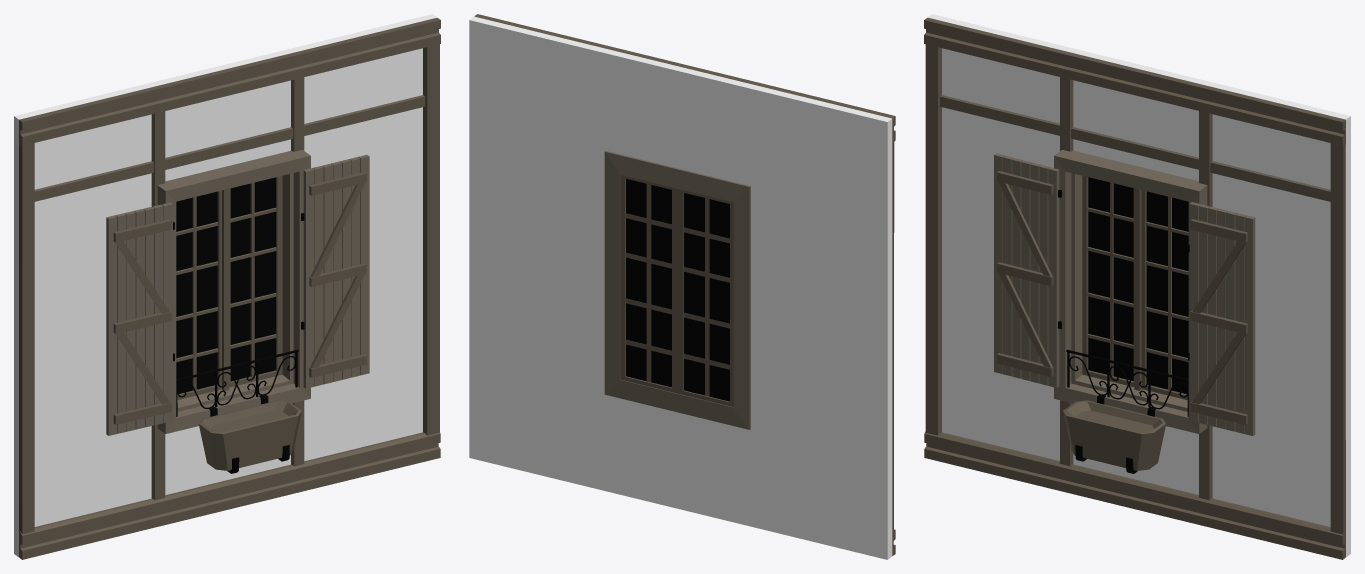
Rendered from WINDOW_05_1.glb.
3 renders of one model, left to right at view 1: azimuth 30°, elevation 25°; view 2: azimuth 150°, elevation 25°; view 3: azimuth 330°, elevation 25°, orthographic.
Visible parts, largest first — view 1: WINDOW_05_1; view 2: WINDOW_05_1; view 3: WINDOW_05_1.
Part boxes in pixels (<box>): WINDOW_05_1: <box>14,14,440,559</box>; WINDOW_05_1: <box>469,14,895,559</box>; WINDOW_05_1: <box>924,14,1350,559</box>.
Size of the model in its own units: 3 by 3 by 0.4906.
1 material, 1 textured.
